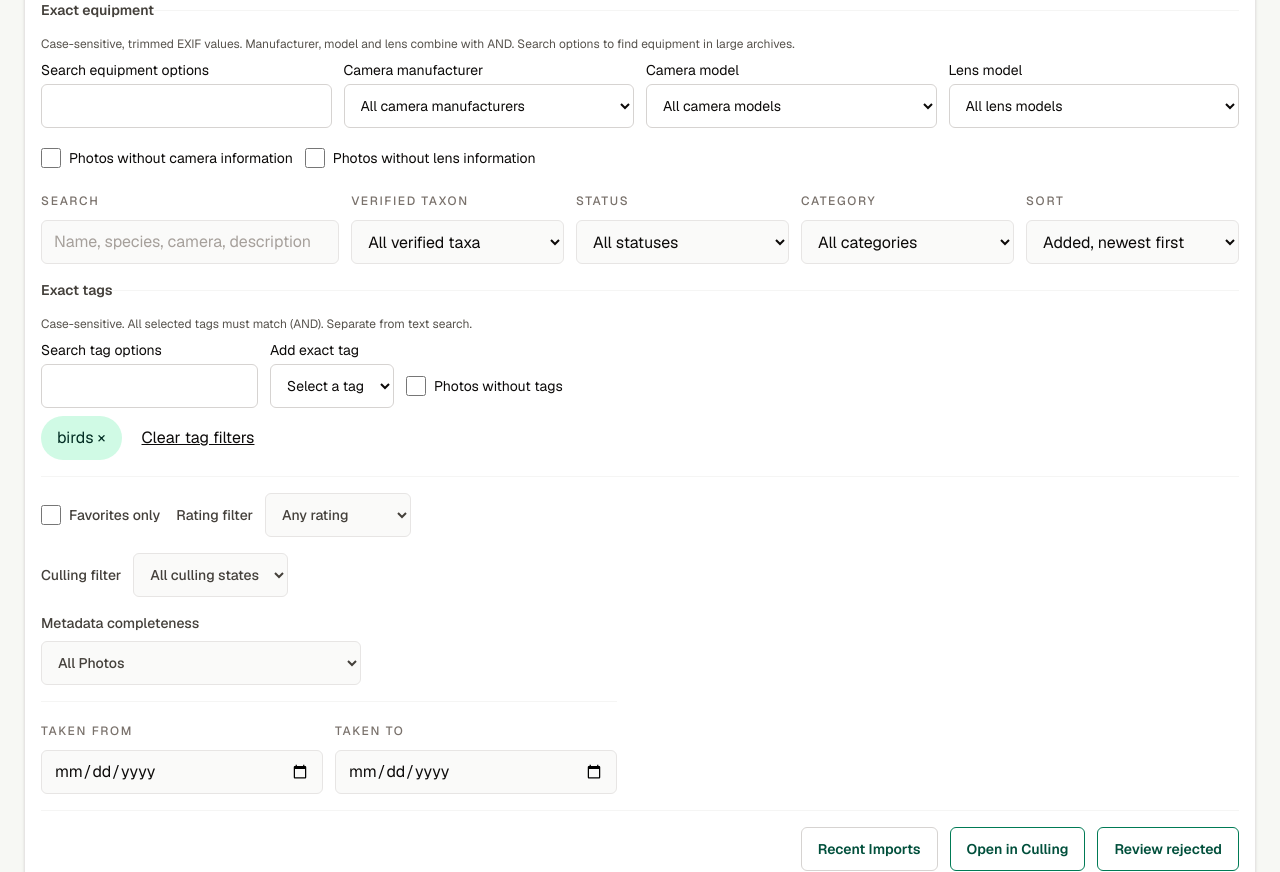
it: active tags visibly block creating and updating version-one Smart Collections
(page scrolled)
Click the button "Clear tag filters" at (198, 438), box [130,416,266,460]
(page scrolled)
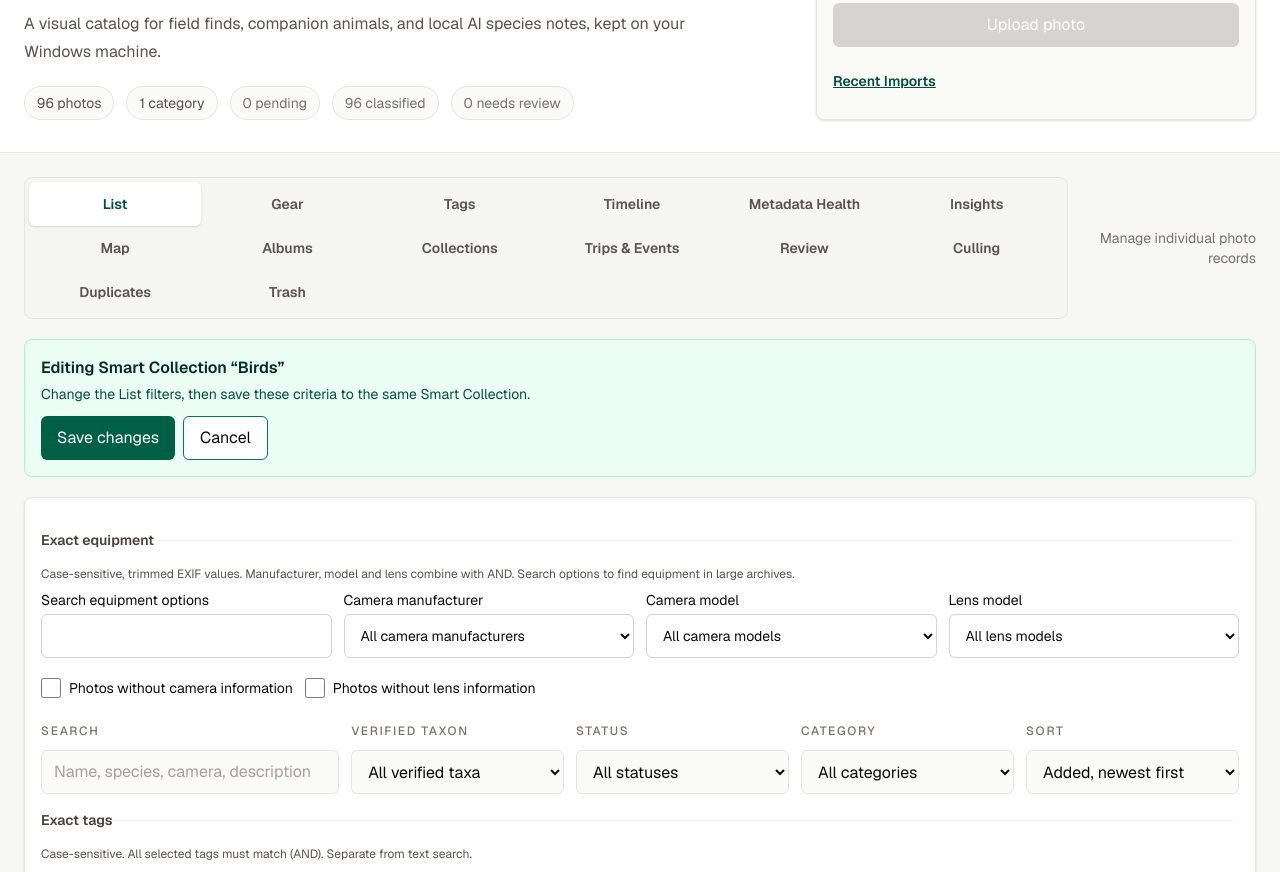
Now the button "Save changes" is enabled, box [41,416,175,460]
